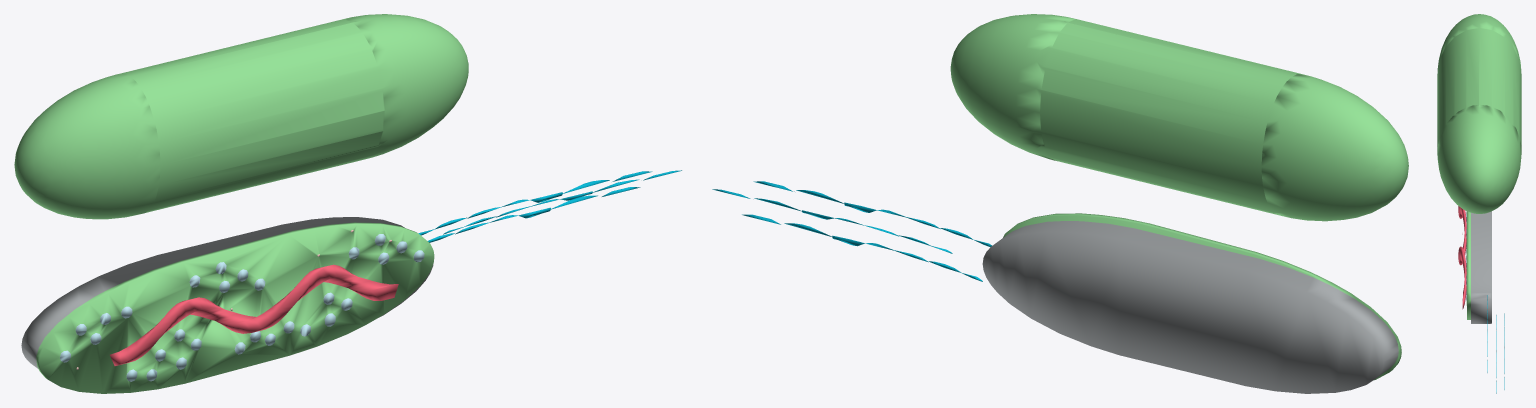
The model's file is aliivibrio fischeri - BIOLUM.fbx.
3 renders of one model, left to right at view 1: azimuth 30°, elevation 25°; view 2: azimuth 150°, elevation 25°; view 3: azimuth 270°, elevation 25°, orthographic. The views are drawn at different scales.
Parts seen in each view (by area): view 1: obj_0; view 2: obj_0; view 3: obj_0.
Boxes of the visible parts, bbox=[...] form: obj_0: bbox=[14, 14, 681, 393]; obj_0: bbox=[712, 14, 1408, 393]; obj_0: bbox=[1437, 14, 1521, 393].
Bounding box in the file's own units: 13170 × 5802 × 2000.
